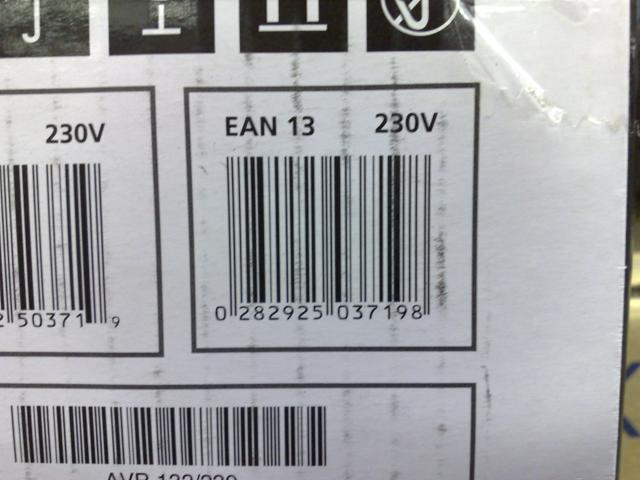Barkod: (223, 152, 435, 305), (11, 402, 331, 467), (0, 164, 107, 313)
